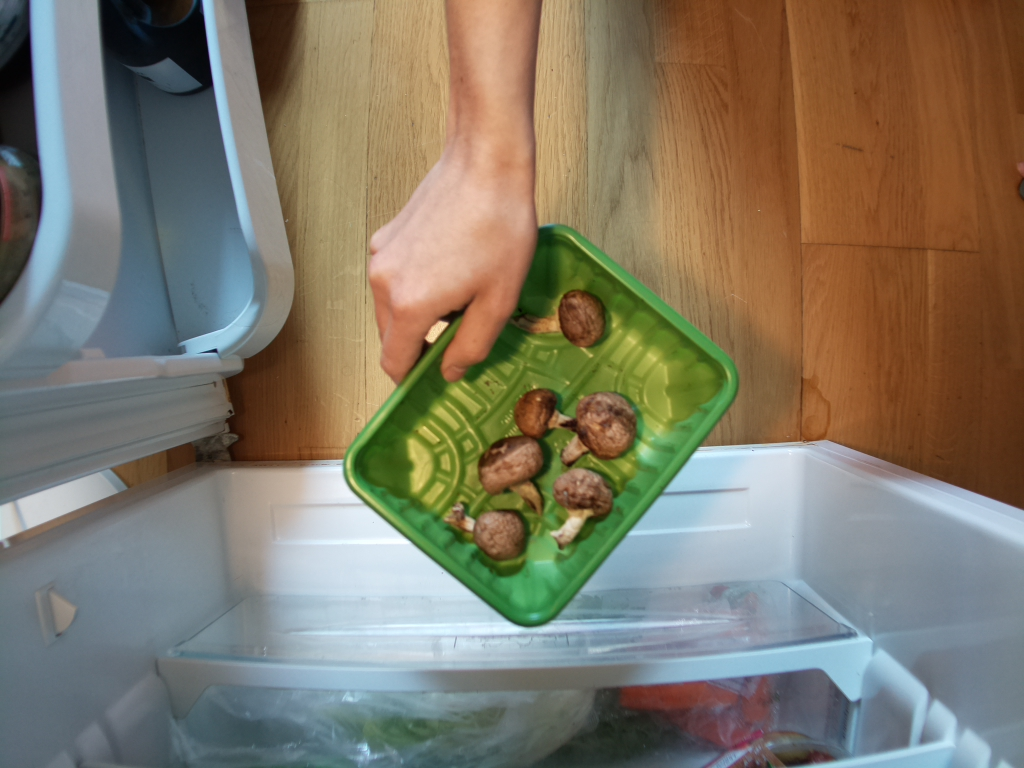mushrooms-bad: (350, 218, 739, 632)
